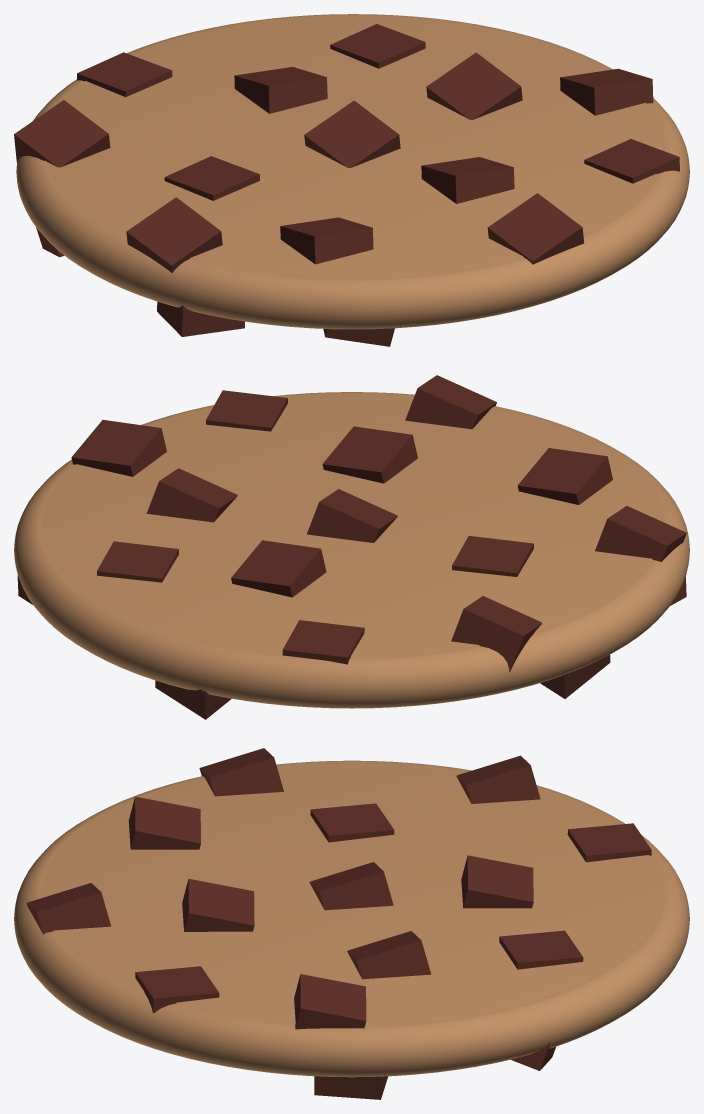
Rendered from Cookie.fbx.
3 renders of one model, top to bottom at view 1: azimuth 30°, elevation 25°; view 2: azimuth 150°, elevation 25°; view 3: azimuth 270°, elevation 25°, orthographic.
Visible parts, largest first — view 1: Cylinder, Torus, Cube.013, Cube.011, Cube.009, Cube.015, Cube, Cube.016, Cube.002, Cube.008, Cube.012, Cube.010 (+5 smaller); view 2: Cylinder, Torus, Cube.016, Cube.012, Cube.002, Cube.008, Cube.009, Cube.013, Cube.011, Cube, Cube.015, Cube.014 (+5 smaller); view 3: Cylinder, Torus, Cube.016, Cube.002, Cube.012, Cube.008, Cube.011, Cube.013, Cube.009, Cube.015, Cube, Cube.010 (+5 smaller).
Part boxes in pixels (x1,y1,x2,y2): Cylinder: [44, 15, 662, 278]; Torus: [16, 14, 689, 329]; Cube.013: [126, 197, 222, 272]; Cube.011: [487, 193, 584, 264]; Cube.009: [14, 100, 110, 167]; Cube.015: [426, 52, 522, 119]; Cube: [304, 100, 400, 167]; Cube.016: [560, 68, 653, 115]; Cube.002: [234, 67, 327, 113]; Cube.008: [280, 217, 373, 264]; Cube.012: [421, 157, 514, 203]; Cube.010: [584, 139, 679, 183]; Cylinder: [40, 393, 663, 657]; Torus: [14, 392, 689, 708]; Cube.016: [71, 420, 166, 476]; Cube.012: [322, 426, 417, 483]; Cube.002: [231, 540, 326, 597]; Cube.008: [517, 448, 612, 504]; Cube.009: [451, 596, 542, 671]; Cube.013: [595, 506, 686, 561]; Cube.011: [405, 375, 496, 429]; Cube: [307, 489, 397, 542]; Cube.015: [146, 468, 237, 522]; Cube.014: [282, 620, 364, 664]; Cylinder: [40, 762, 663, 1025]; Torus: [14, 760, 689, 1077]; Cube.016: [294, 974, 366, 1029]; Cube.002: [461, 855, 533, 908]; Cube.012: [182, 878, 254, 931]; Cube.008: [128, 796, 200, 849]; Cube.011: [26, 883, 111, 934]; Cube.013: [199, 748, 283, 796]; Cube.009: [456, 755, 540, 803]; Cube.015: [347, 931, 431, 979]; Cube: [309, 862, 393, 910]; Cube.010: [135, 966, 219, 1013].
Bounding box in the file's own units: 217 × 37.09 × 217.
